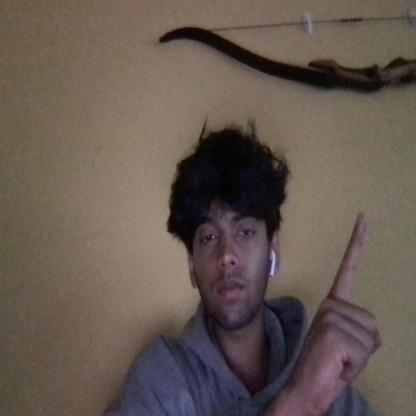finger_point: (339, 194, 381, 242)
